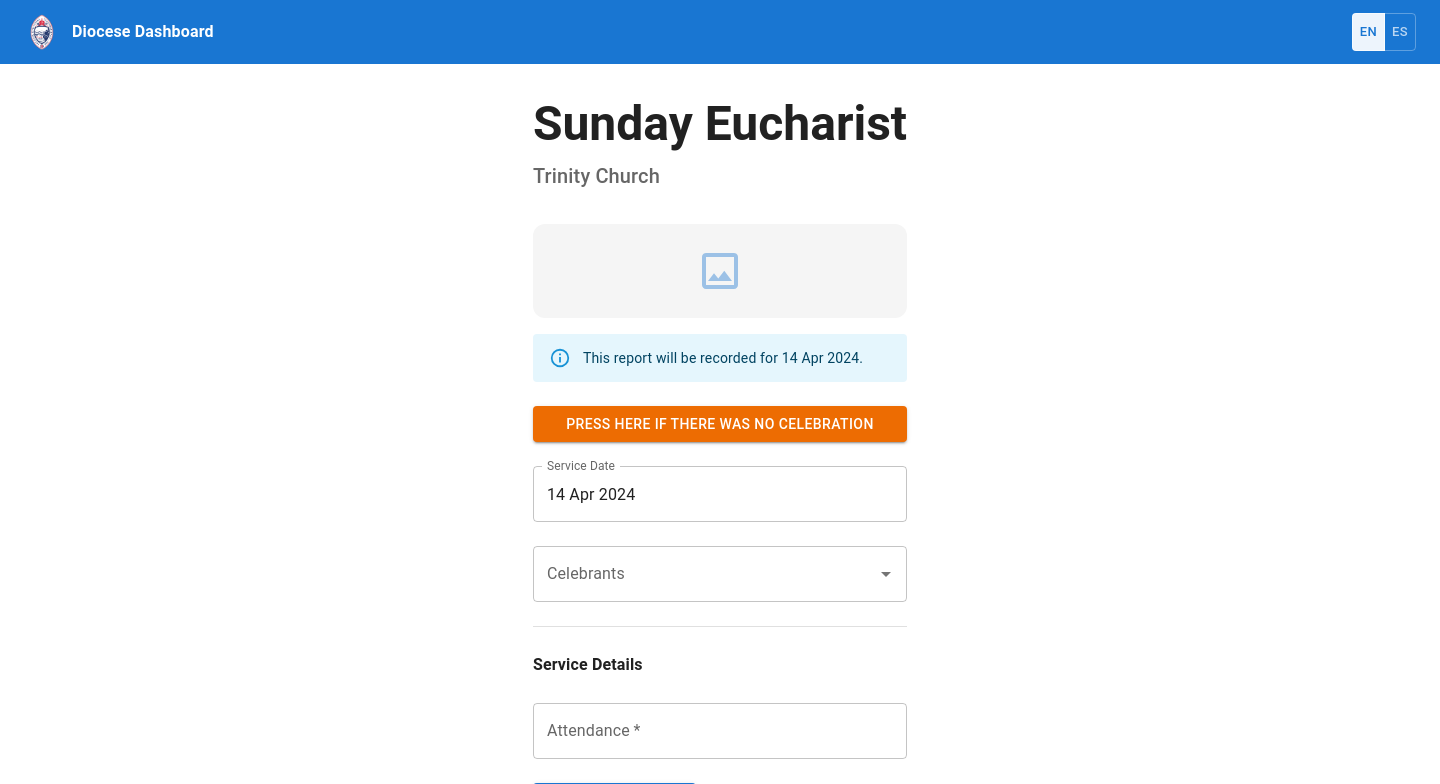
Scenario: ReporterLinkPage › cancelling the no-celebration dialog closes it and does not submit
expect the heading "Sunday Eucharist" is shown: met, box [533,96,907,152]
Click the button "Press here if there was no celebration". click: [720, 424]
box: [533,406,907,442]
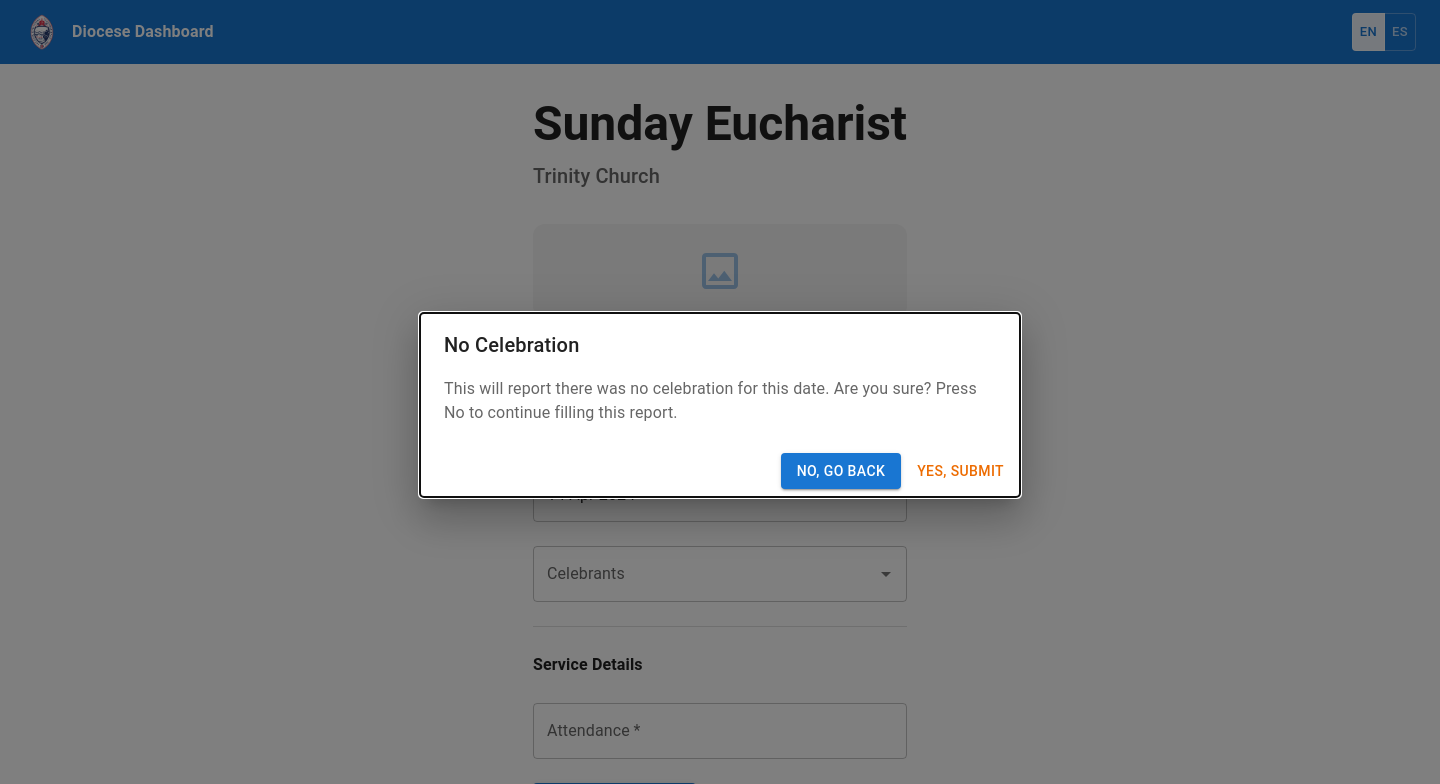
expect the dialog is shown: met, box [420,313,1020,497]
Click the button "No, go back". click: [841, 471]
box: [781,453,901,489]
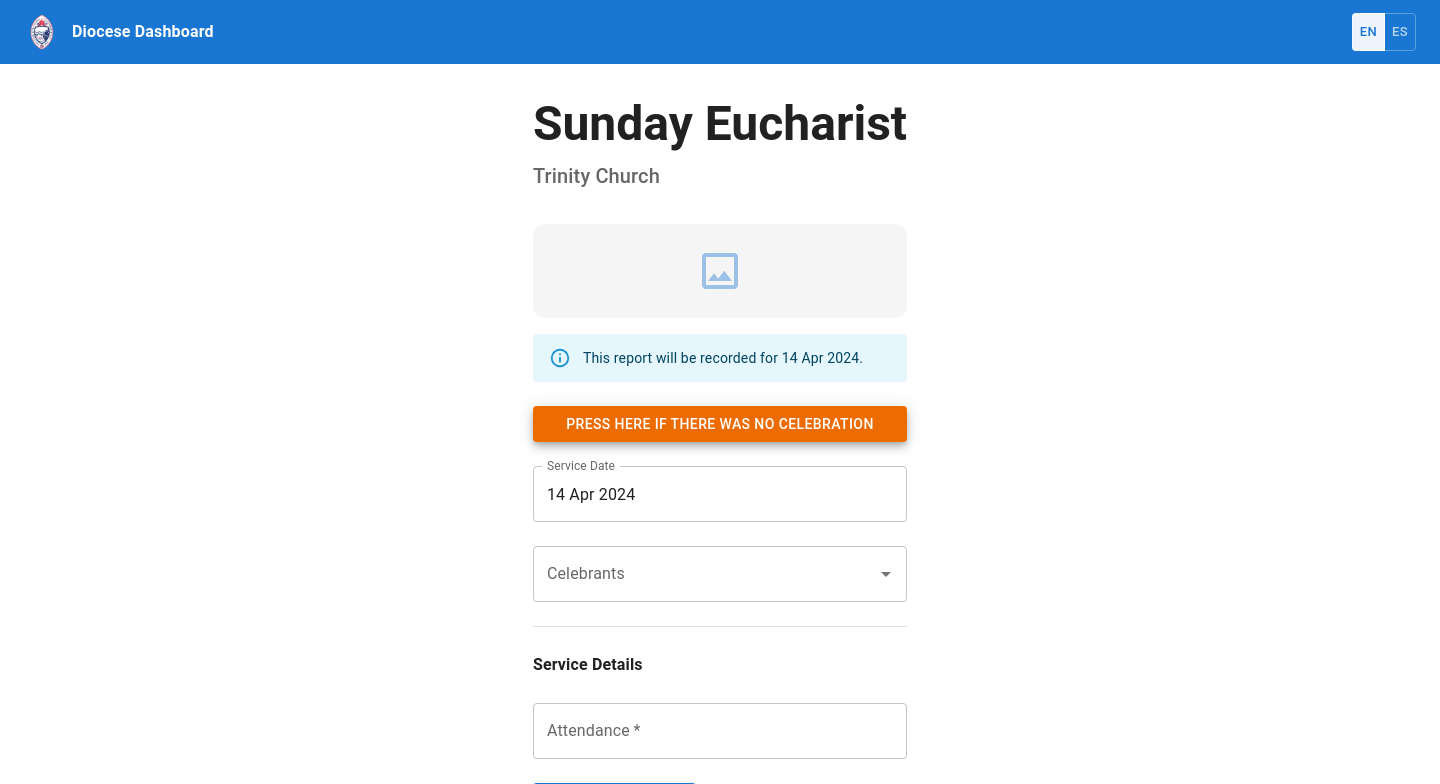
expect the dialog is gone: met
